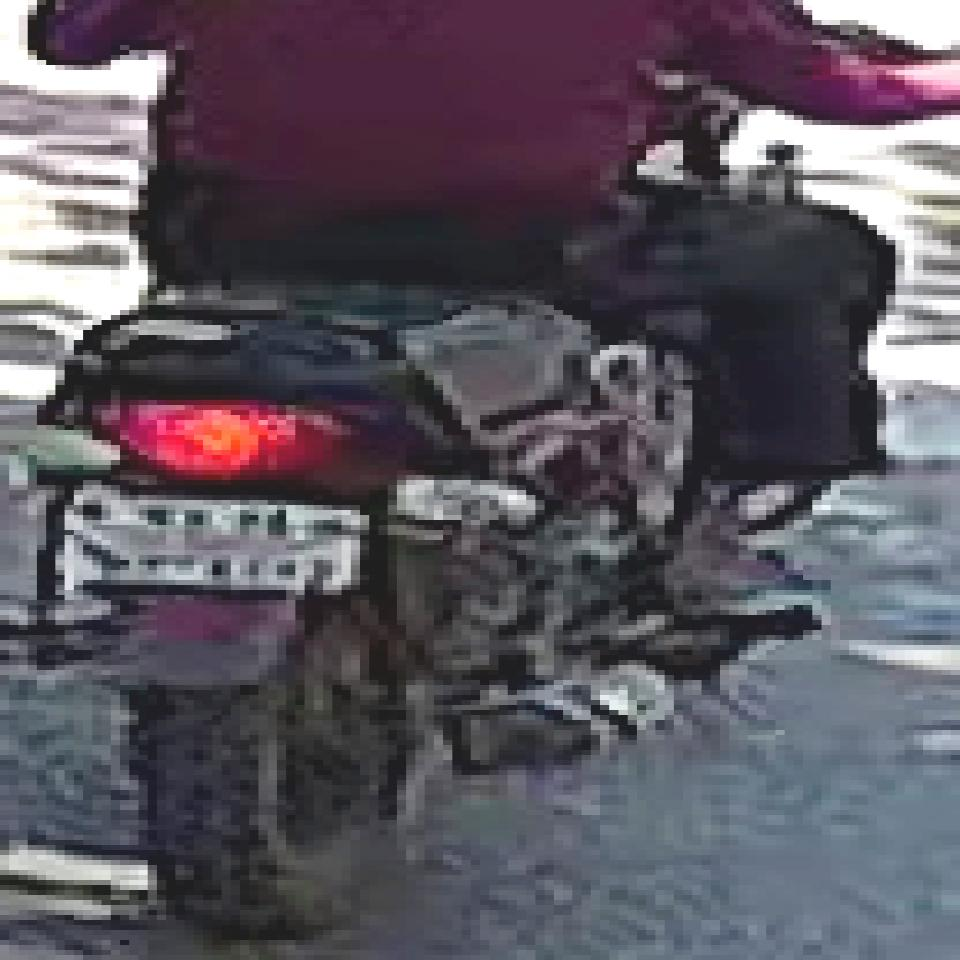tail_light: (93, 399, 356, 476)
